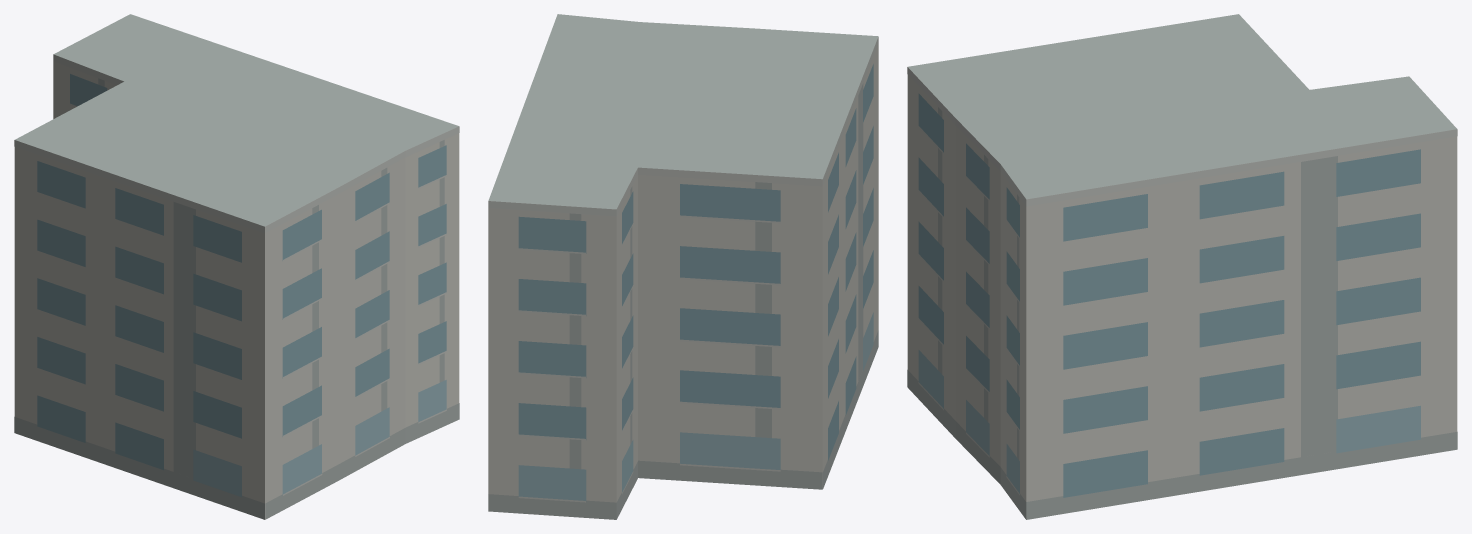
Rendered from survey-upis-32866425.glb.
3 renders of one model, left to right at view 1: azimuth 30°, elevation 25°; view 2: azimuth 150°, elevation 25°; view 3: azimuth 270°, elevation 25°, orthographic. The views are drawn at different scales.
Parts seen in each view (by area): view 1: survey-upis-32866425.tmp; view 2: survey-upis-32866425.tmp; view 3: survey-upis-32866425.tmp.
Boxes of the visible parts, x1,y1,x2,y2 form: survey-upis-32866425.tmp: (14, 14, 459, 519); survey-upis-32866425.tmp: (488, 14, 878, 519); survey-upis-32866425.tmp: (907, 14, 1457, 519).
Size of the model in its own units: 13.26 by 10.68 by 16.62.
